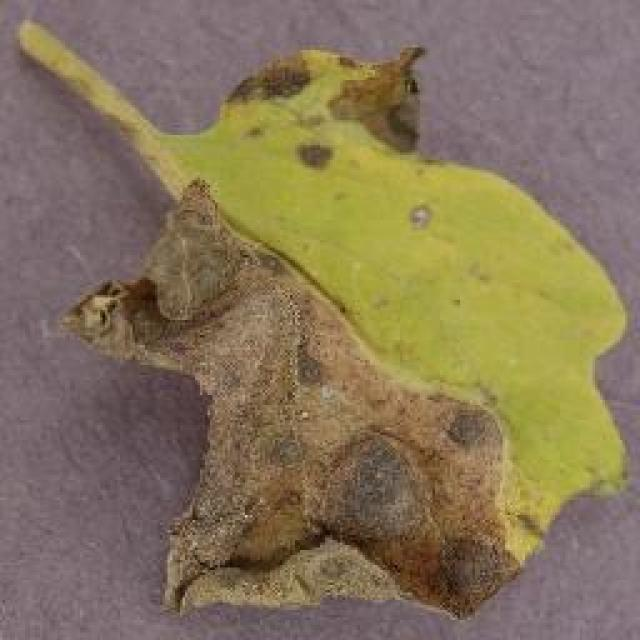Tomato___Septoria_leaf_spot: (18, 20, 622, 615)
